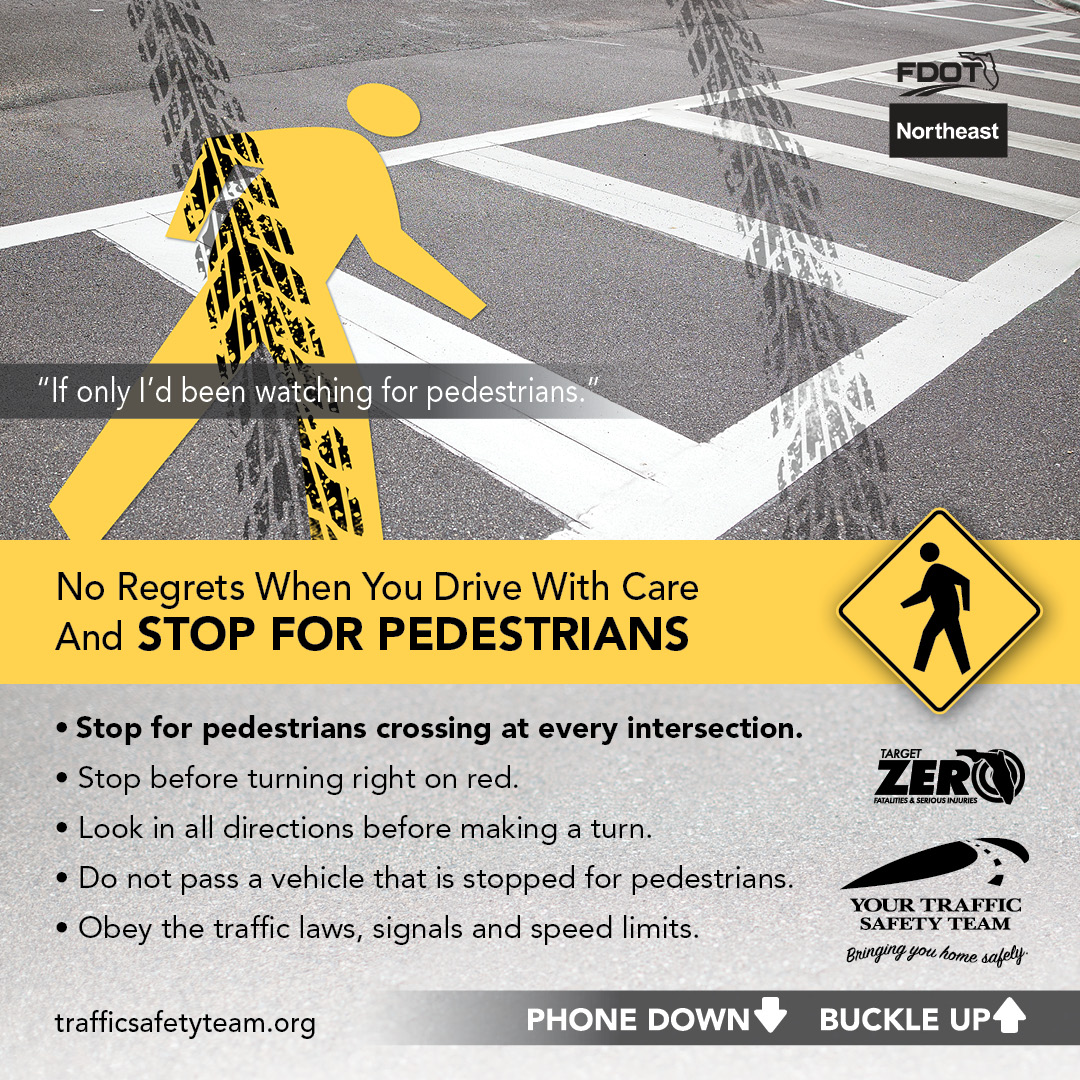Crosswalk: (418, 106, 882, 542)
